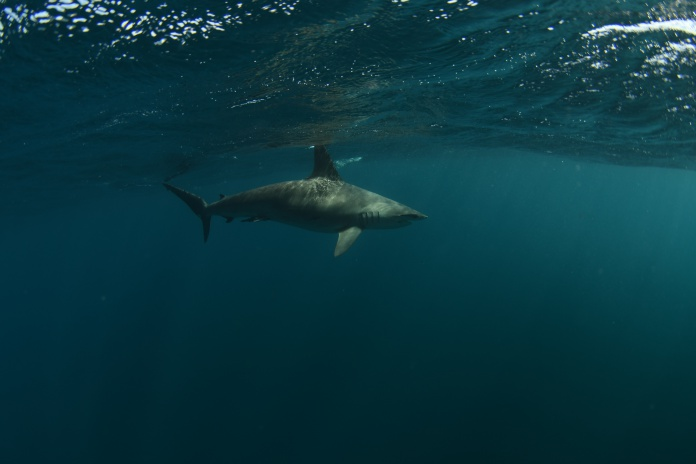Hammer: (146, 188, 398, 327)
